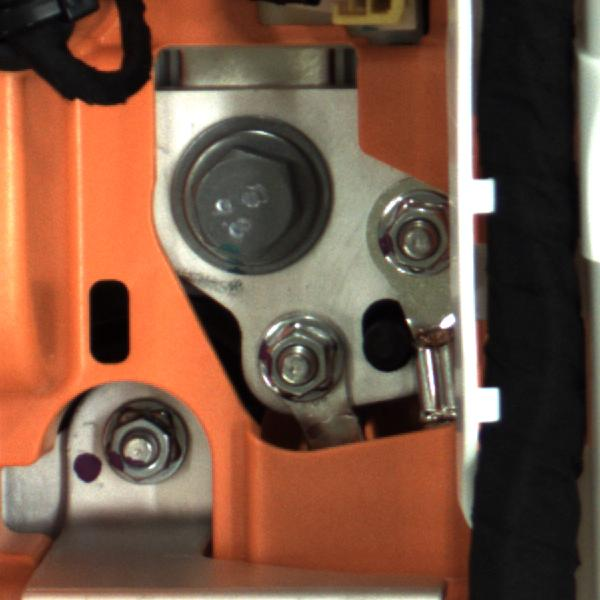nut_b: (171, 118, 331, 276)
screw_s: (372, 189, 471, 294), (247, 321, 364, 409), (89, 406, 186, 491)
